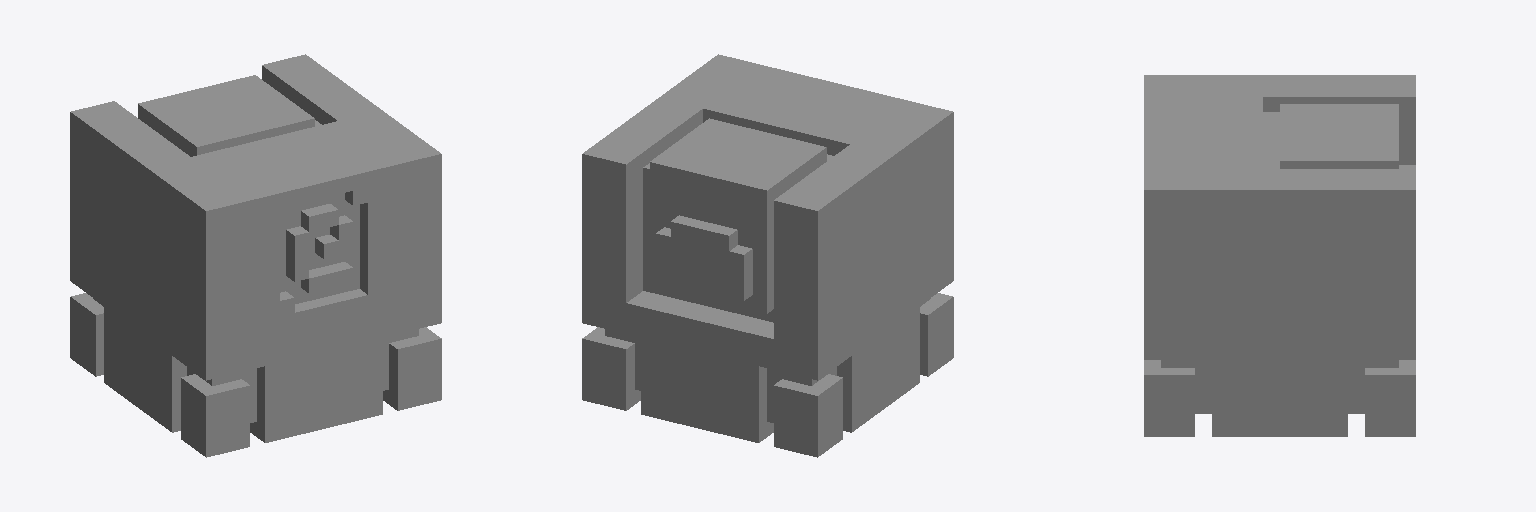
Rendered from blockpig.obj.
3 views of the same model, side by side, from view 1: azimuth 30°, elevation 25°; view 2: azimuth 150°, elevation 25°; view 3: azimuth 270°, elevation 25° (orthographic).
Visible parts, largest first — view 1: Cube; view 2: Cube; view 3: Cube.
Boxes of the visible parts, <box> form: Cube: <box>70,54,441,457</box>; Cube: <box>582,54,953,457</box>; Cube: <box>1144,75,1415,436</box>.
Size of the model in its own units: 1 by 1 by 1.